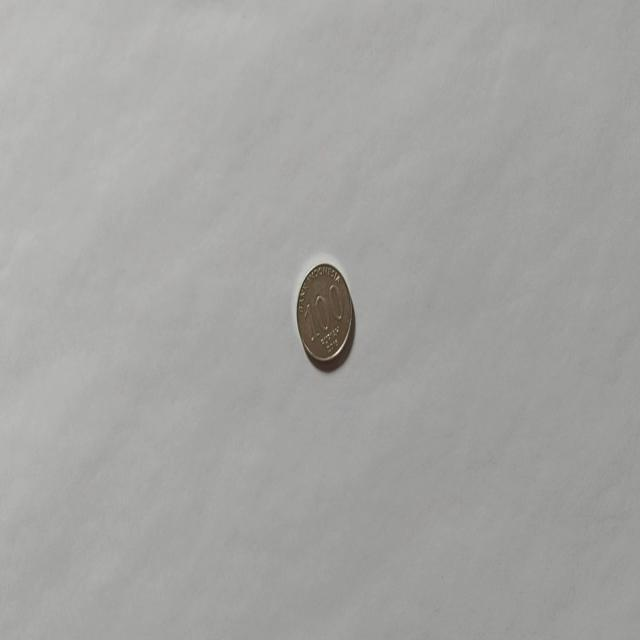seratus rupiah: (295, 260, 353, 368)
